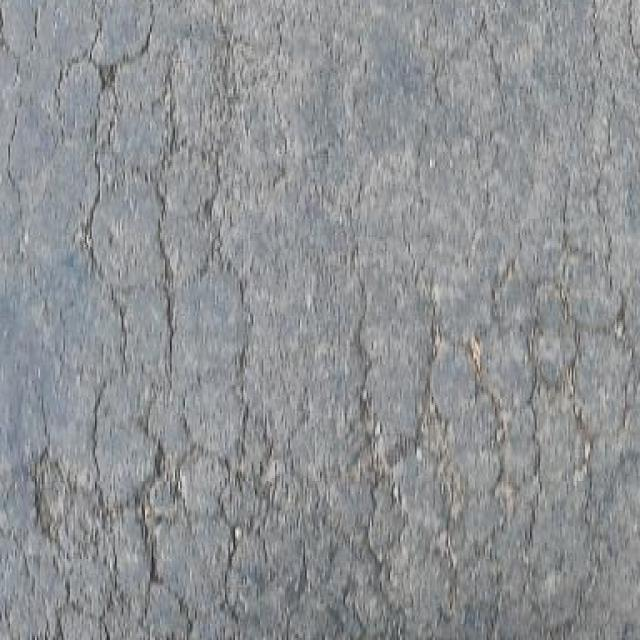GRIETA: (347, 57, 377, 436), (594, 159, 613, 257), (561, 175, 571, 241), (90, 0, 102, 50), (144, 0, 156, 47)
PIEL DE COCODRILO: (28, 138, 636, 626), (4, 0, 295, 192)
